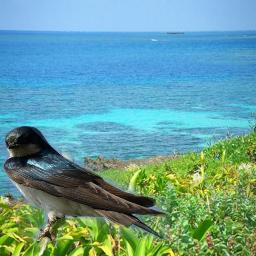Swallow: (3, 126, 170, 247)
